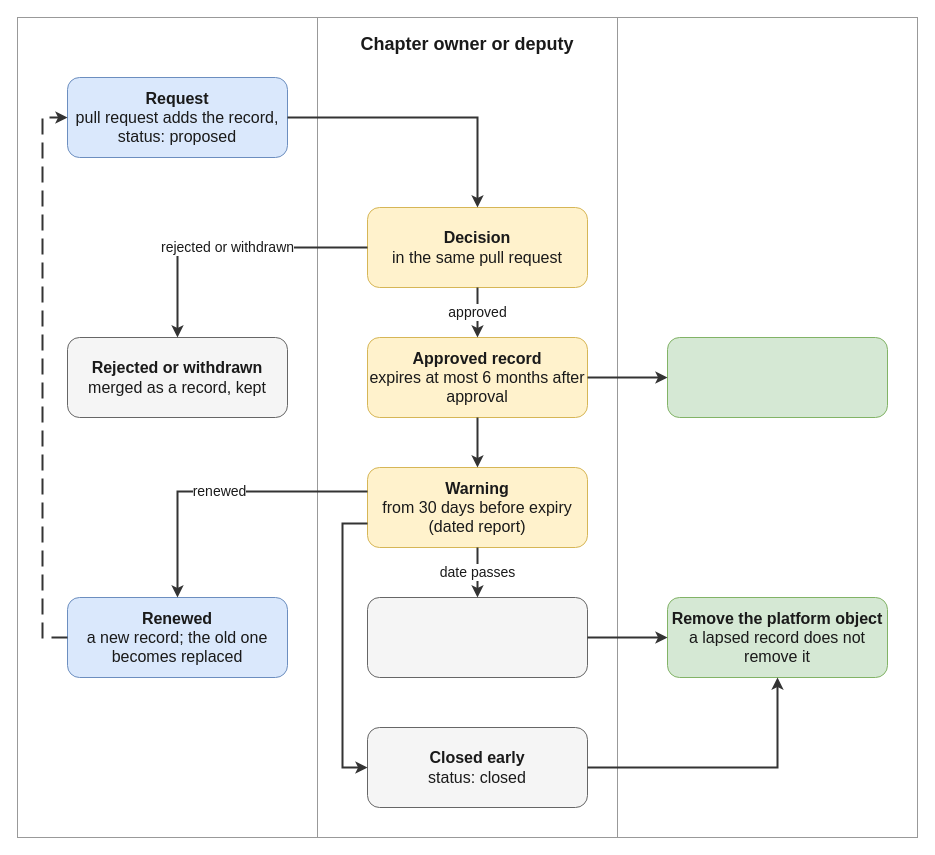
The diagram is 935 pixels wide and 855 high, and some of its shapes have lost their labels. The shapes that lost their labels are listed below. From the top down, each one's box as (x1, y1, x2, y2) in pixels, then its label:
(666, 336, 888, 418): Platform object carries the record id and, where possible, the expiry
(16, 16, 318, 838): Requester
(616, 16, 918, 838): Platform team
(366, 596, 588, 678): Expired read from the date, no edit; record kept
